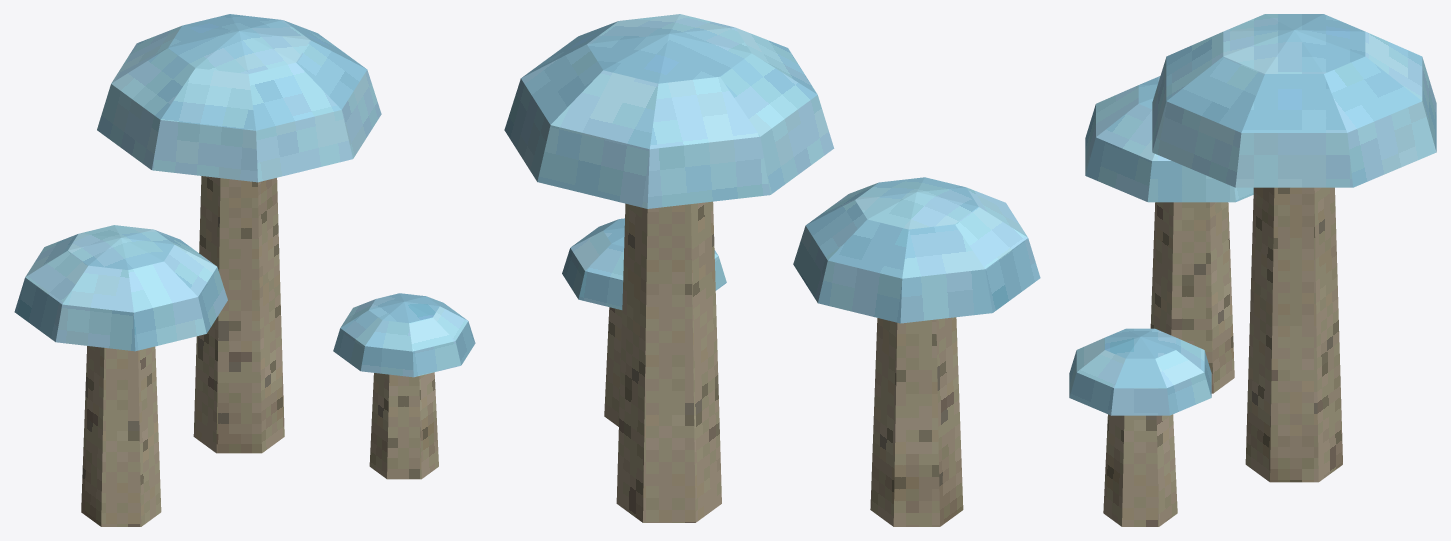
The model's file is setas_grupo.obj.
The picture shows the model from 3 angles, left to right: view 1: azimuth 30°, elevation 25°; view 2: azimuth 150°, elevation 25°; view 3: azimuth 270°, elevation 25°; orthographic projection. The views are drawn at different scales.
Parts seen in each view (by area): view 1: setas_grupo; view 2: setas_grupo; view 3: setas_grupo.
Boxes of the visible parts, <box> form: setas_grupo: <box>14,14,475,526</box>; setas_grupo: <box>504,14,1040,526</box>; setas_grupo: <box>1069,14,1436,526</box>.
Bounding box in the file's own units: 0.3886 × 0.374 × 0.2863.
2 materials, 2 textured.
